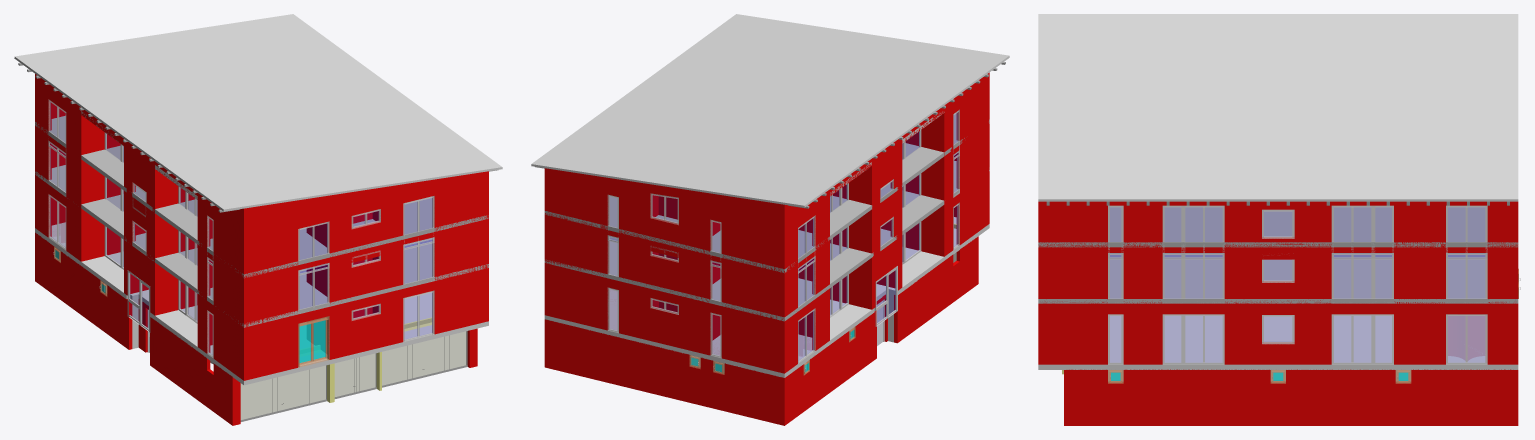
3 renders of one model, left to right at view 1: azimuth 30°, elevation 25°; view 2: azimuth 150°, elevation 25°; view 3: azimuth 270°, elevation 25°, orthographic. The views are drawn at different scales.
Parts seen in each view (by area): view 1: 2LyOnm3HfDoQyPBX$sZ__E, 046XTSGrf6dxo2lkn16MZf, 1uAKOeCRHEieYOZq68LNu9, 0xAVzJEbj9kxb4d$Dz41cz, 3qlbUuWS9A88oE2tMvG66y, 1HfDedA1j3lPv$vXYu6HeH, 11W_cg5ULCWweIIzjuiFFZ, 2yYVPeHk924hL_c8ydkqpH, 2A_KAqcqTEiPqZizQTx9OM, 2lZHj6JpP5cBLyEZKnkWjZ, 0RHVPOxrnDvxWVNHzveiky, 3JCb305qTBvA8daI0ZWHNo (+29 smaller); view 2: 2LyOnm3HfDoQyPBX$sZ__E, 3rPusAl2nEB9pfvUhJpX0K, 0H_FTp1DbDPeIFCLy$Y_8F, 1NA0QMNKz2VQ5s71jak25w, 1w8_CCrtPEfOBGI_Kwyr7e, 1HfDedA1j3lPv$vXYu6HeH, 11W_cg5ULCWweIIzjuiFFZ, 3qlbUuWS9A88oE2tMvG66y, 2yYVPeHk924hL_c8ydkqpH, 2A_KAqcqTEiPqZizQTx9OM, 3JCb305qTBvA8daI0ZWHNo, 1HB_XQ3J92exzCXe1ctMzA (+26 smaller); view 3: 2LyOnm3HfDoQyPBX$sZ__E, 25S0QWC9bABB8JMFCJ1wnG, 3u0z6l7sX588lZA7MWaLdb, 01mtkDlAX6HALMLHtKTh3S, 0fecc4Yhz8mwl2kyChH13y, 1HfDedA1j3lPv$vXYu6HeH, 3qlbUuWS9A88oE2tMvG66y, 2A_KAqcqTEiPqZizQTx9OM, 0VKSR5UqL8cx5tq76rlPKp, 1zvcbuoJ9C59Dzmi3Ti8gC, 3oVyViFjfD2h1ce_VLuuBq, 3lRlVoIK1FRxcqh7Mawttg (+18 smaller).
Boxes of the visible parts, x1,y1,x2,y2 form: 2LyOnm3HfDoQyPBX$sZ__E: (14,14,502,211); 046XTSGrf6dxo2lkn16MZf: (242,172,485,289); 1uAKOeCRHEieYOZq68LNu9: (242,269,485,380); 0xAVzJEbj9kxb4d$Dz41cz: (242,220,485,326); 3qlbUuWS9A88oE2tMvG66y: (35,165,488,327); 1HfDedA1j3lPv$vXYu6HeH: (35,222,488,385); 11W_cg5ULCWweIIzjuiFFZ: (35,232,132,349); 2yYVPeHk924hL_c8ydkqpH: (150,317,236,425); 2A_KAqcqTEiPqZizQTx9OM: (35,115,488,278); 2lZHj6JpP5cBLyEZKnkWjZ: (240,365,327,421); 0RHVPOxrnDvxWVNHzveiky: (382,331,467,387); 3JCb305qTBvA8daI0ZWHNo: (199,194,241,287); 2LyOnm3HfDoQyPBX$sZ__E: (531,14,1009,207); 3rPusAl2nEB9pfvUhJpX0K: (544,168,786,283); 0H_FTp1DbDPeIFCLy$Y_8F: (544,263,786,373); 1NA0QMNKz2VQ5s71jak25w: (548,320,781,424); 1w8_CCrtPEfOBGI_Kwyr7e: (544,215,786,320); 1HfDedA1j3lPv$vXYu6HeH: (544,217,989,377); 11W_cg5ULCWweIIzjuiFFZ: (781,310,876,425); 3qlbUuWS9A88oE2tMvG66y: (544,160,989,321); 2yYVPeHk924hL_c8ydkqpH: (894,236,978,343); 2A_KAqcqTEiPqZizQTx9OM: (544,113,989,273); 3JCb305qTBvA8daI0ZWHNo: (946,77,987,162); 1HB_XQ3J92exzCXe1ctMzA: (945,173,987,255); 2LyOnm3HfDoQyPBX$sZ__E: (1038,14,1518,201); 25S0QWC9bABB8JMFCJ1wnG: (1068,369,1518,425); 3u0z6l7sX588lZA7MWaLdb: (1038,303,1513,364); 01mtkDlAX6HALMLHtKTh3S: (1038,201,1513,259); 0fecc4Yhz8mwl2kyChH13y: (1038,247,1513,303); 1HfDedA1j3lPv$vXYu6HeH: (1038,315,1518,369); 3qlbUuWS9A88oE2tMvG66y: (1038,255,1518,303); 2A_KAqcqTEiPqZizQTx9OM: (1038,206,1518,247); 0VKSR5UqL8cx5tq76rlPKp: (1331,314,1373,364); 1zvcbuoJ9C59Dzmi3Ti8gC: (1446,314,1487,364); 3oVyViFjfD2h1ce_VLuuBq: (1183,314,1224,364); 3lRlVoIK1FRxcqh7Mawttg: (1331,205,1373,259).
Bounding box in the file's own units: 14.24 × 11.2 × 18.59.
